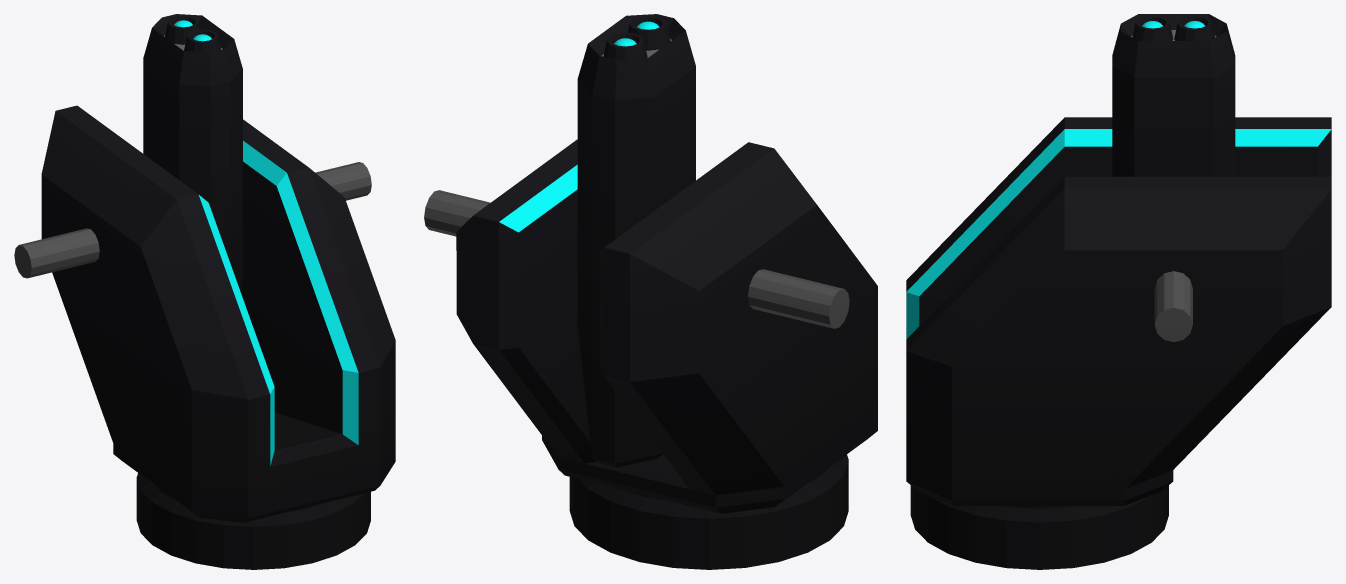
3 renders of one model, left to right at view 1: azimuth 30°, elevation 25°; view 2: azimuth 150°, elevation 25°; view 3: azimuth 270°, elevation 25°, orthographic. The views are drawn at different scales.
Parts seen in each view (by area): view 1: Base_1B_Object, Base_1B_Tracker_Object; view 2: Base_1B_Object, Base_1B_Tracker_Object; view 3: Base_1B_Object, Base_1B_Tracker_Object.
Boxes of the visible parts, x1=… form: Base_1B_Object: x1=41, y1=105, x2=395, y2=569; Base_1B_Tracker_Object: x1=14, y1=14, x2=371, y2=292; Base_1B_Object: x1=456, y1=139, x2=877, y2=569; Base_1B_Tracker_Object: x1=424, y1=14, x2=849, y2=467; Base_1B_Object: x1=906, y1=117, x2=1331, y2=569; Base_1B_Tracker_Object: x1=1112, y1=14, x2=1235, y2=342.
Size of the model in its own units: 1.01 by 1.26 by 0.9879.
1 material, 1 textured.
